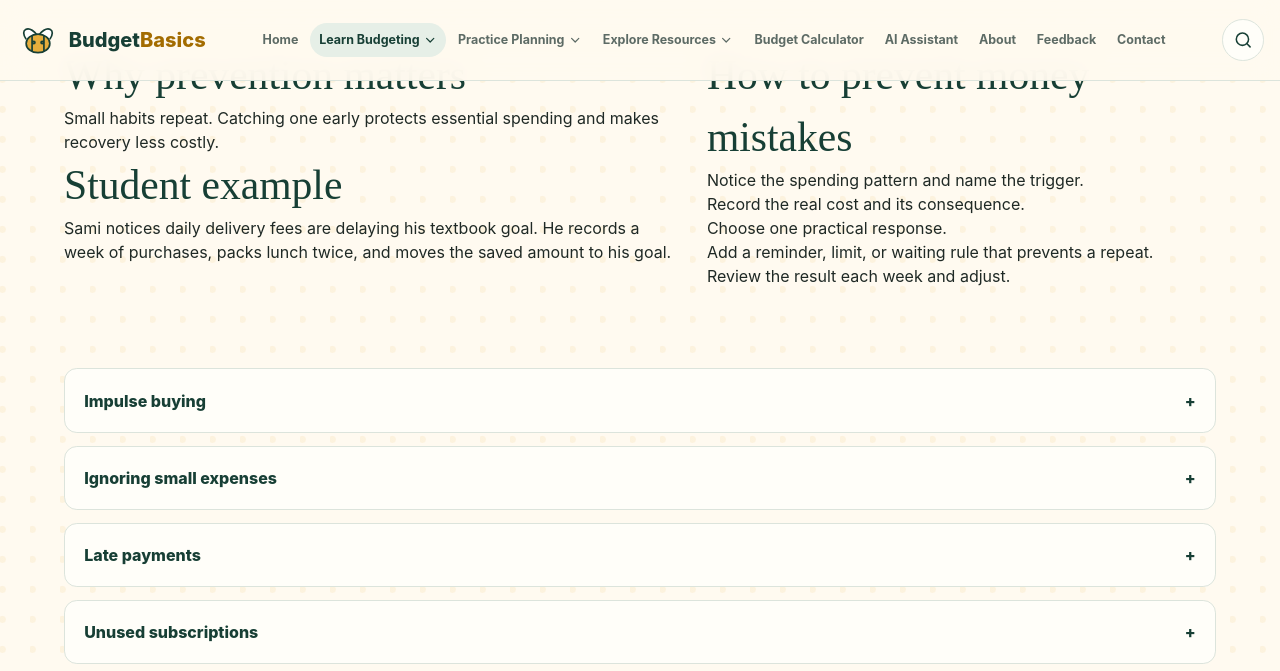
Test case: interactive learning pages › opens a keyboard-accessible money mistake accordion
The image size is (1280, 671).
(page scrolled)
Click the button "Impulse buying +" at (145, 401), box [65,369,1215,432]
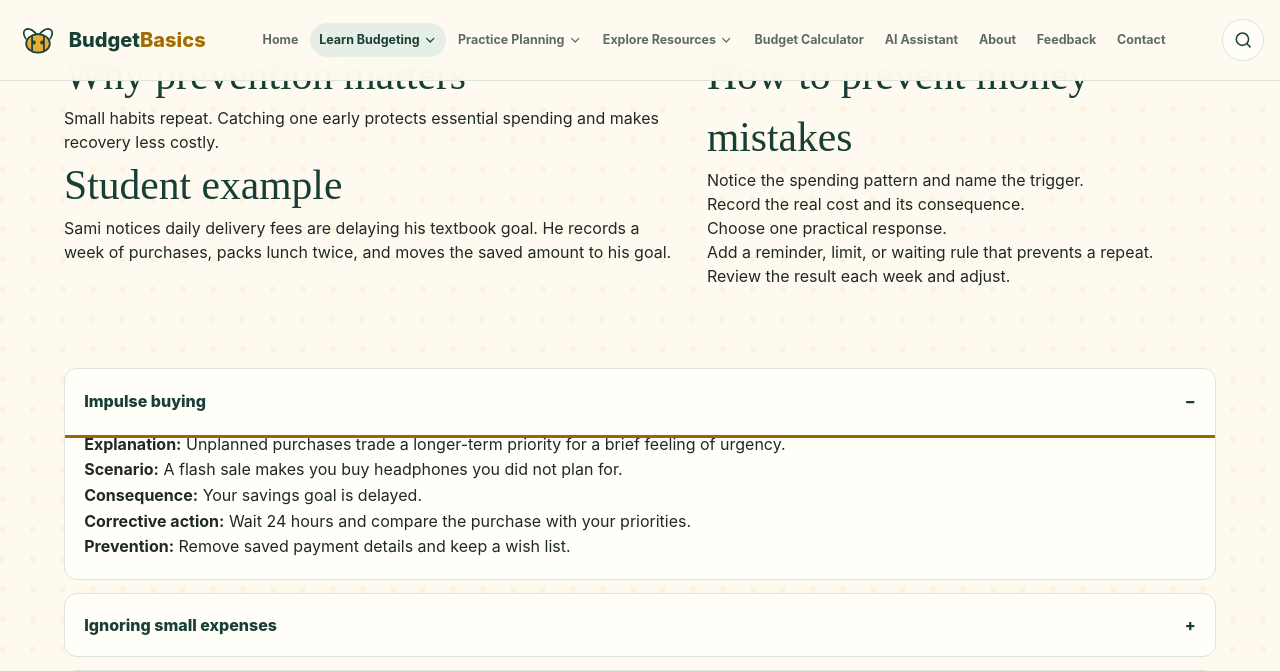
Check: the text "Corrective action:" is shown, box [84,510,224,530]
